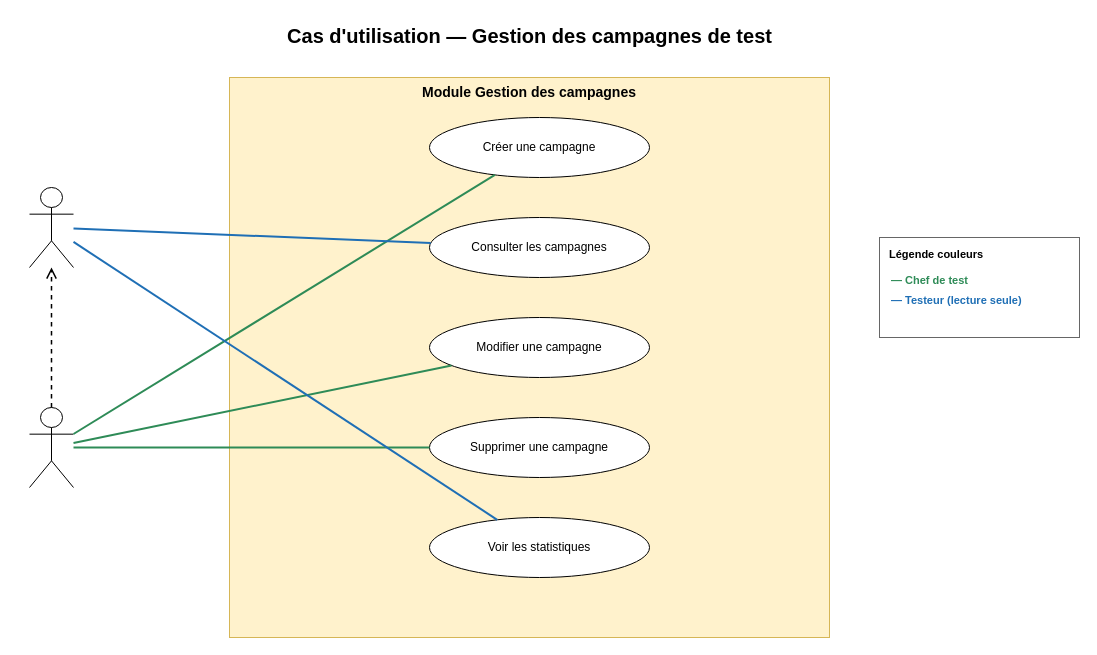
This 1097x655 diagram has some shape labels left out. Each missing label, with the centre of its shape:
Chef de test: [51,447]
Testeur: [51,227]
